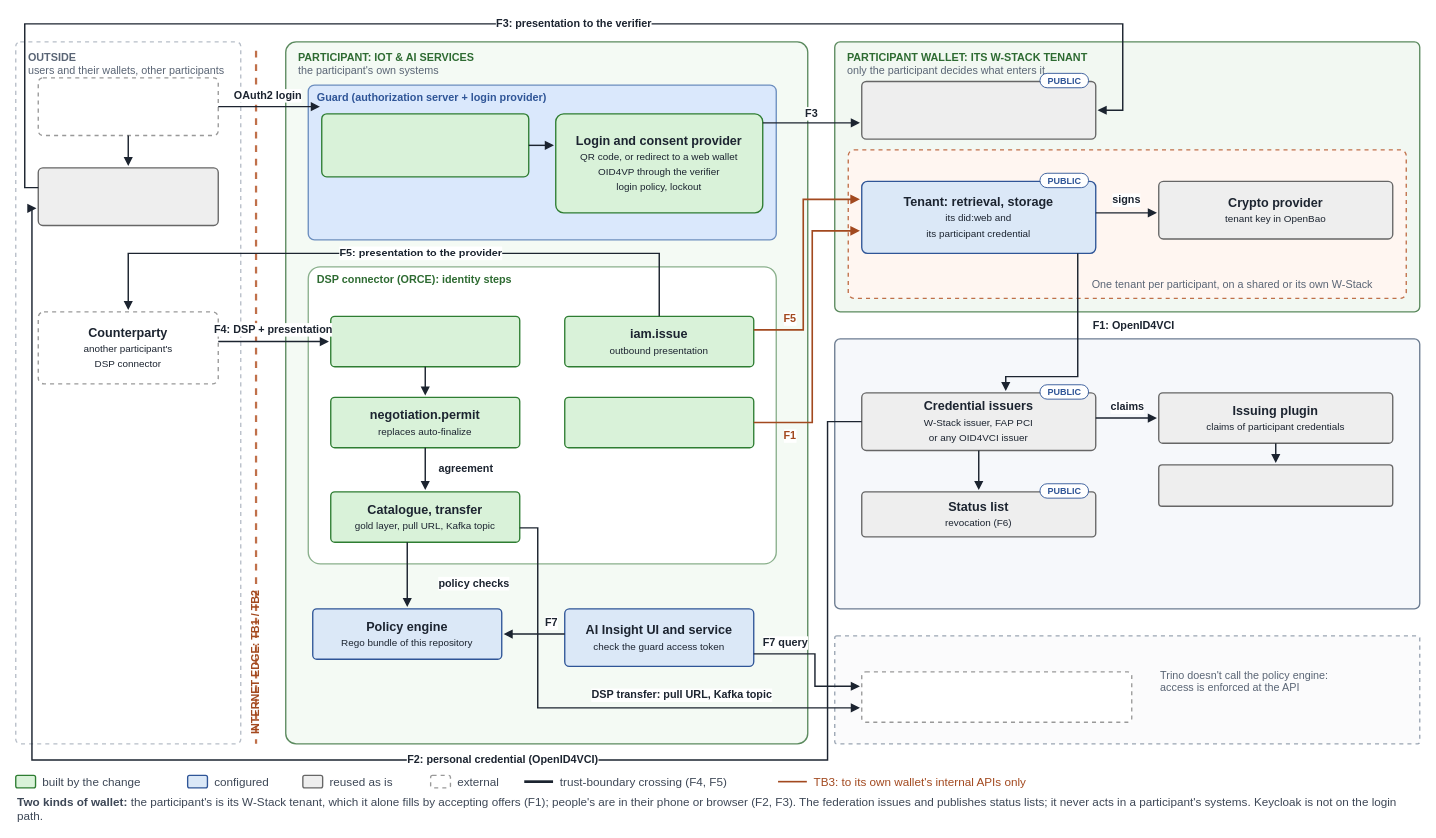
This 1436x838 diagram has some shape labels left out. The box of each missing label's shape, as (x1, y1, x2, y2) in pixels:
Authorization server Ory Hydra (Fosite) OAuth2, issues the apps' JWTs: (321, 113, 529, 177)
DATA LAKE Stackable: Trino, Kafka: (834, 635, 1420, 744)
FEDERATION TRUST SERVICES issuers and status lists: (834, 338, 1420, 609)
iam.receive accepts its credential (F1): (564, 396, 754, 448)
iam.verify inbound presentation check: (330, 315, 520, 367)
Internal APIs: default deny (TB3): (847, 149, 1407, 299)
NATS issuance messaging: (1158, 464, 1393, 507)
Trino, Kafka gold layer, per-transfer topics: (861, 671, 1132, 723)
User browser, smartphone: (37, 77, 219, 136)
W-Stack verifier OpenID4VP, DCQL, for the guard: (861, 80, 1096, 139)
Wallet PCM Cloud (web), mobile or any conformant wallet: (37, 167, 219, 226)
